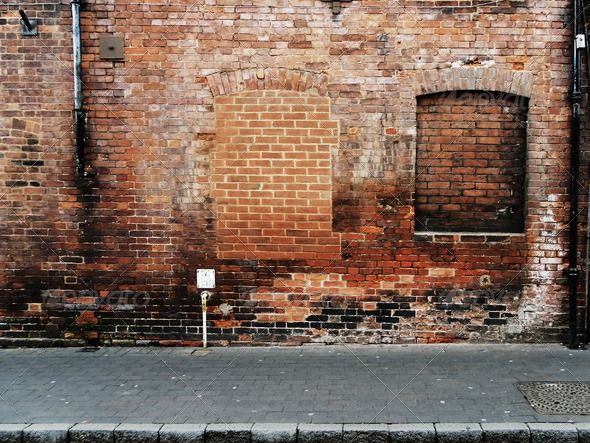Wall: (8, 67, 187, 337), (226, 76, 400, 342), (418, 110, 554, 338)
